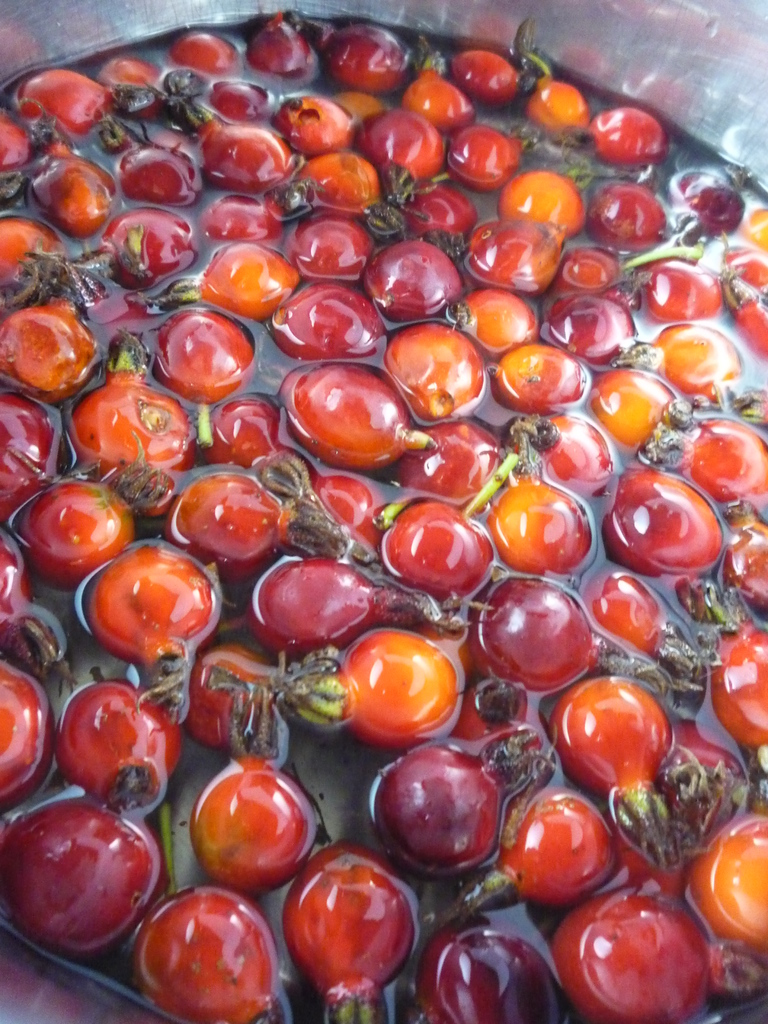Tomato: (0, 0, 766, 1023), (334, 629, 467, 743)
